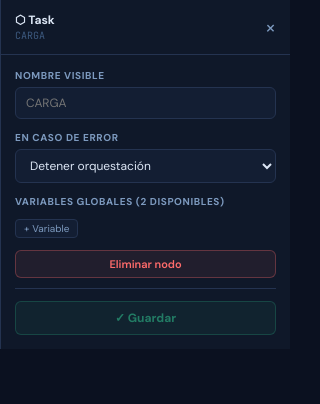
Test: NodeConfigPanel · edicion de variables › al elegir una variable precarga su defaultValue
The image size is (320, 404).
Expected: the text "Variables globales (2 disponibles)" is shown, [15, 195, 225, 208]
Click the button "+ Variable".
click(47, 228)  # box [15, 219, 78, 238]
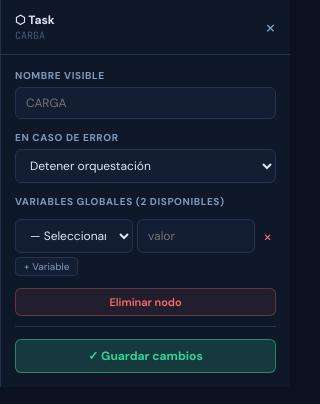
Select "FECHA — fecha de corte" in the dropdown below "Variables globales (2 disponibles)" at {"x": 74, "y": 236}, box [15, 219, 133, 253]
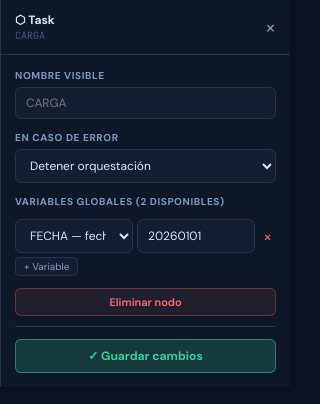
Expected: the field showing "20260101" is shown, [137, 219, 255, 253]
